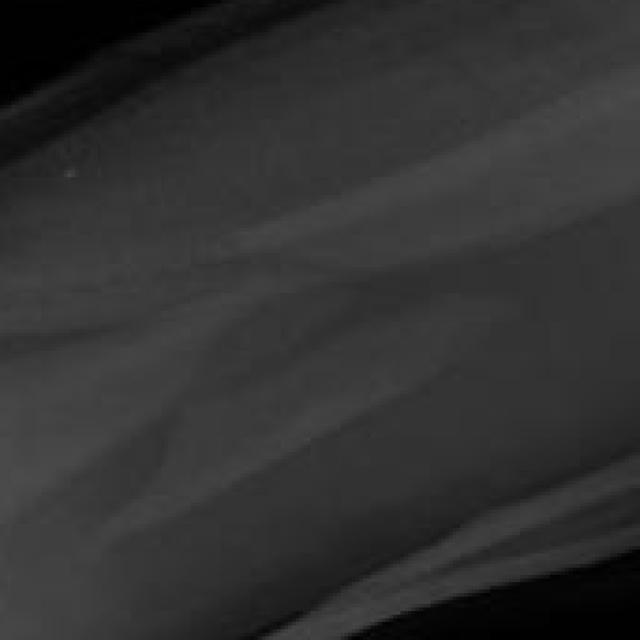fracture: (0, 3, 639, 640)
